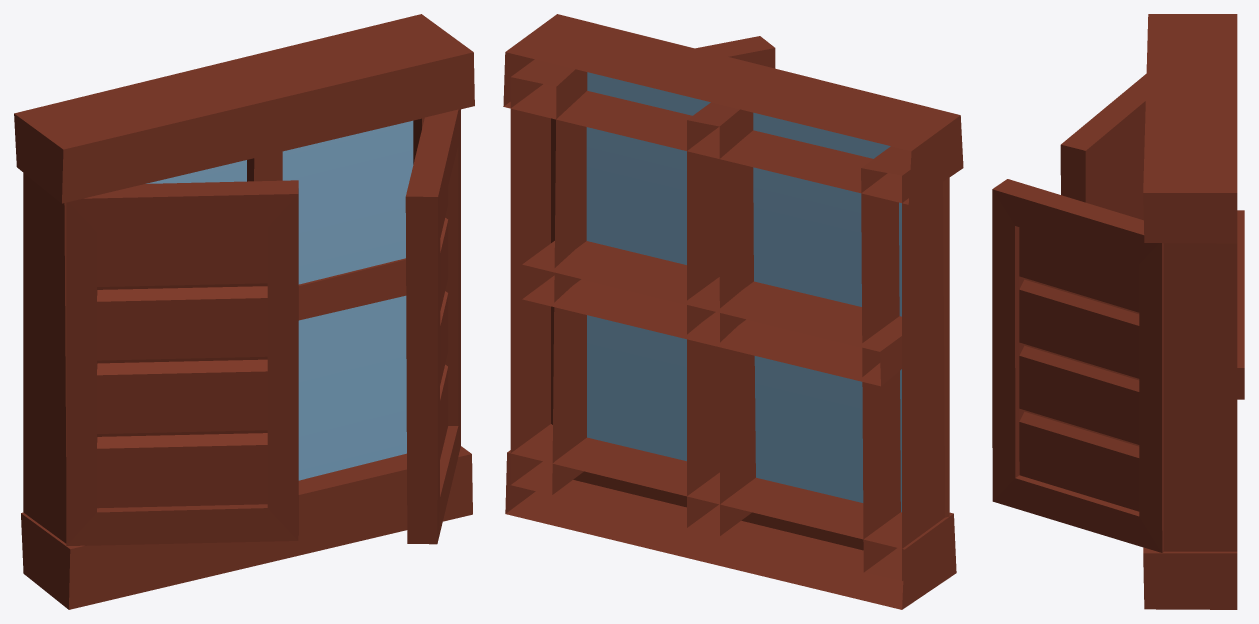
File: House_Window_E.fbx
3 views of the same model, side by side, from view 1: azimuth 30°, elevation 25°; view 2: azimuth 150°, elevation 25°; view 3: azimuth 270°, elevation 25° (orthographic). The views are drawn at different scales.
Visible parts, largest first — view 1: House_Window_E; view 2: House_Window_E; view 3: House_Window_E.
Part boxes in pixels (x1=…): House_Window_E: x1=14, y1=14, x2=474, y2=609; House_Window_E: x1=503, y1=14, x2=963, y2=609; House_Window_E: x1=992, y1=14, x2=1244, y2=609.
Size of the model in its own units: 88.35 by 95.07 by 52.17.
